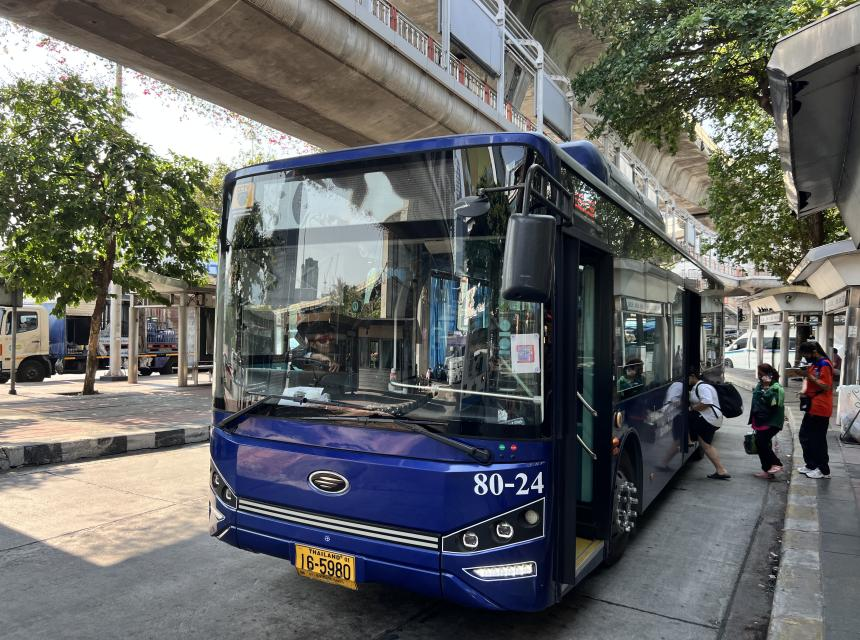Bus Line Number: (382, 163, 463, 223)
Bus Side Number: (468, 470, 549, 500)
Destination Sign: (247, 174, 376, 225)
TSB-Bus: (209, 133, 723, 616)
